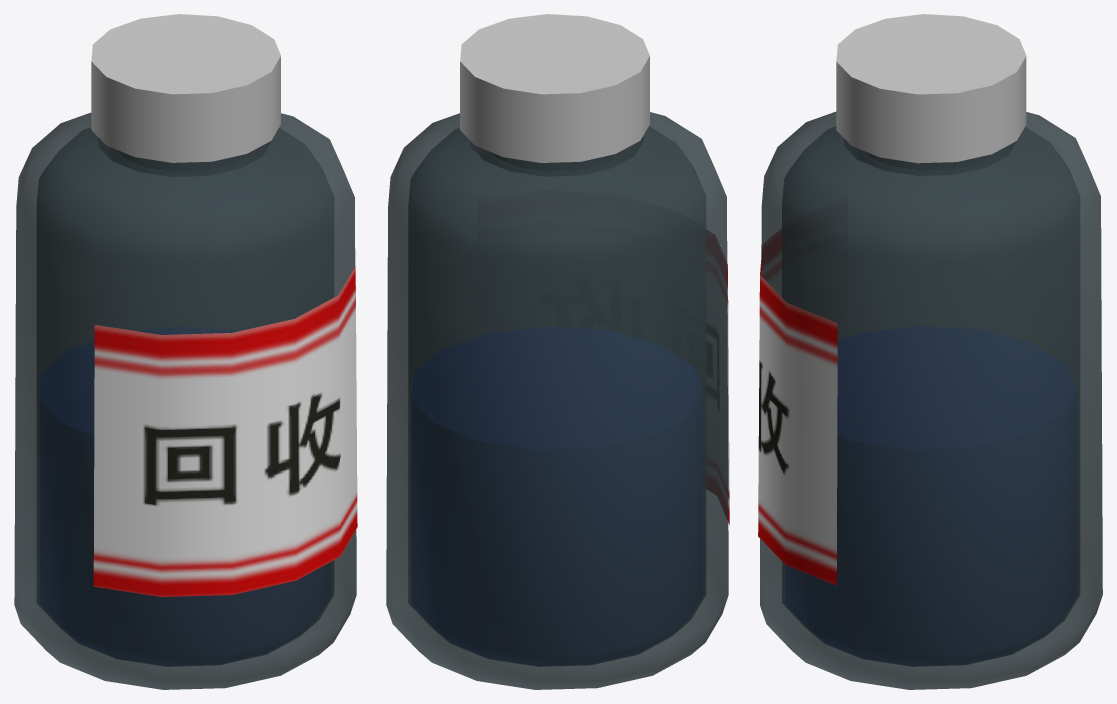
The picture shows the model from 3 angles, left to right: view 1: azimuth 30°, elevation 25°; view 2: azimuth 150°, elevation 25°; view 3: azimuth 270°, elevation 25°; orthographic projection.
Visible parts, largest first — view 1: SM_回收, SM_回收瓶盖; view 2: SM_回收, SM_回收瓶盖; view 3: SM_回收, SM_回收瓶盖.
Part boxes in pixels (bbox=[...]): SM_回收: bbox=[14, 112, 357, 689]; SM_回收瓶盖: bbox=[91, 14, 280, 162]; SM_回收: bbox=[386, 112, 729, 689]; SM_回收瓶盖: bbox=[460, 14, 649, 162]; SM_回收: bbox=[758, 111, 1102, 689]; SM_回收瓶盖: bbox=[836, 14, 1026, 163].
Bounding box in the file's own units: 0.0468 × 0.047 × 0.0872.
